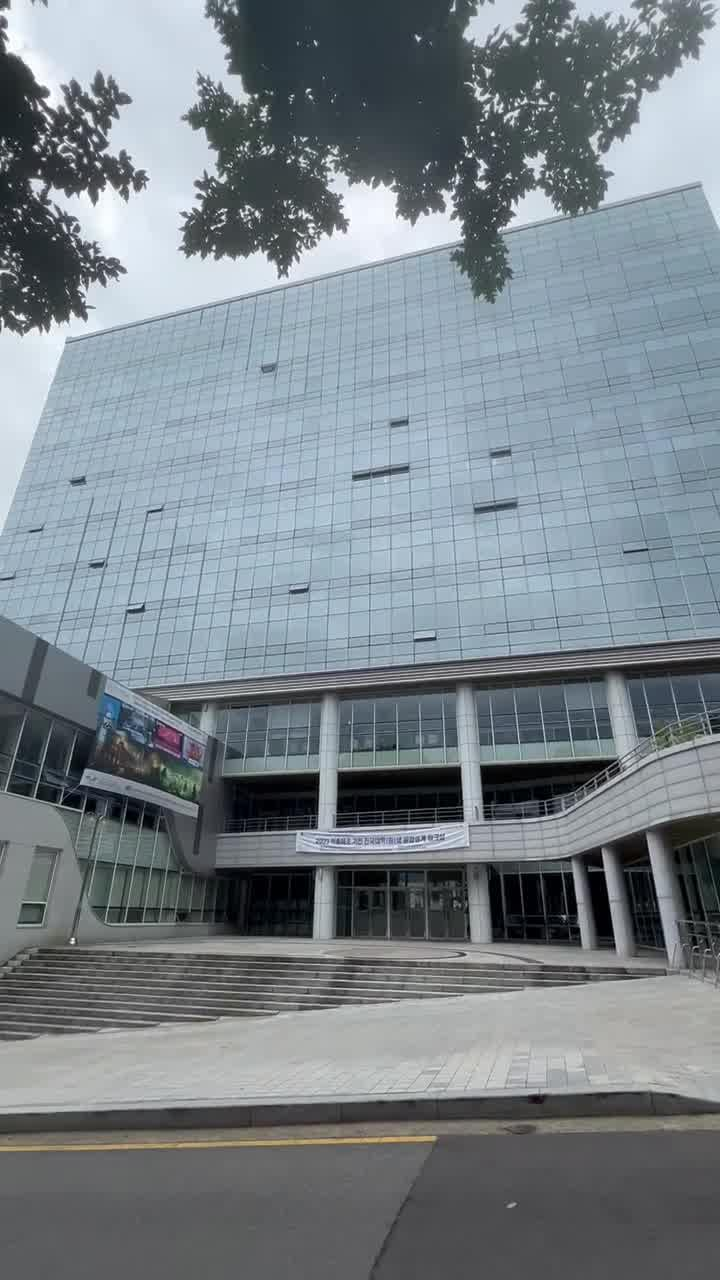building: (80, 292, 720, 912)
